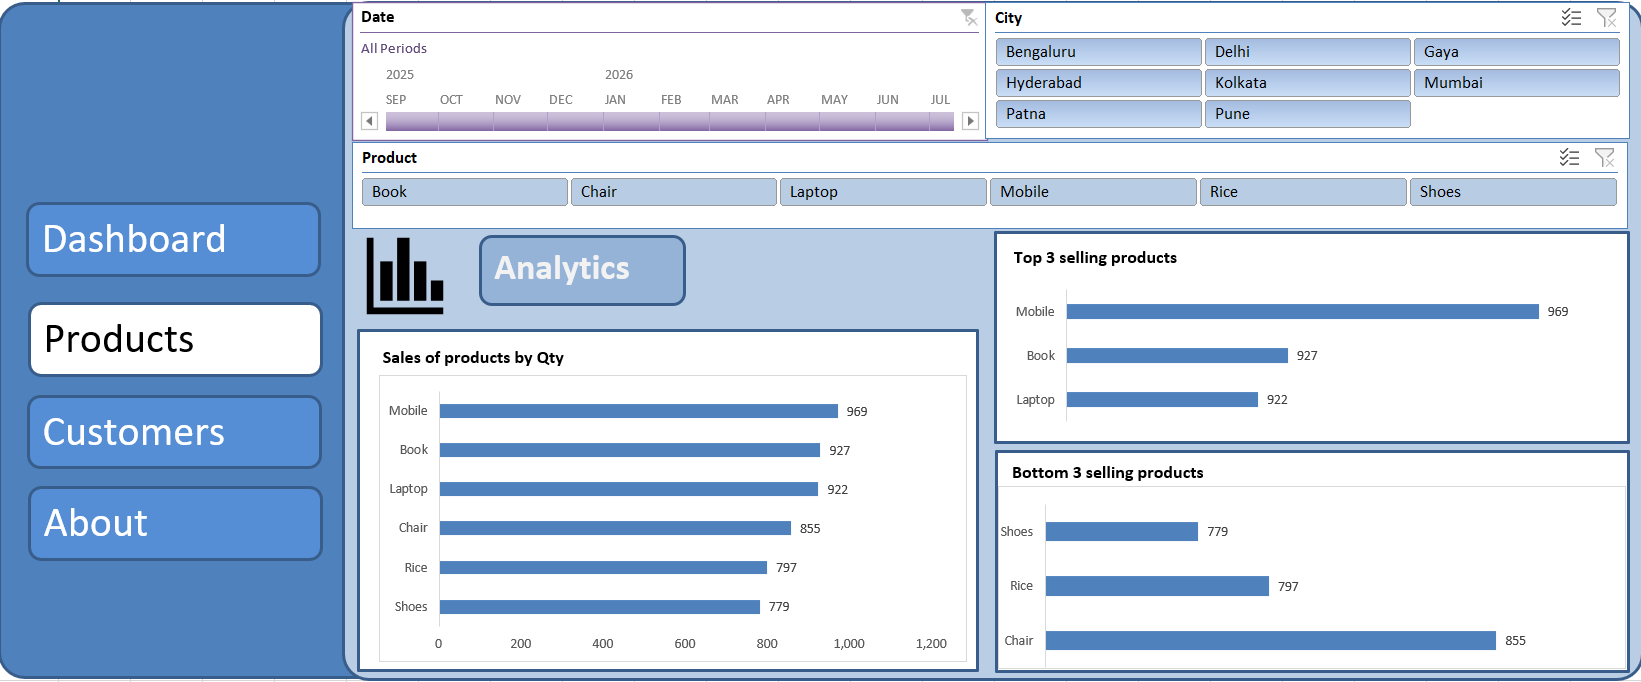

This screenshot's page, from the dashboard's own definition file:
{"tool":"powerbi","page":{"name":"PRODUCT ANALYSIS","canvas":[1280,720],"ordinal":1},"visuals":[{"type":"textbox","box":[0,0,1279.4,69.7],"z":0},{"type":"shape","box":[0,68.1,248,651.7],"z":1000},{"type":"textbox","box":[0,132.3,248,50.6],"z":2000},{"type":"textbox","box":[0,232.7,247.6,43.3],"z":3000},{"type":"textbox","box":[0,316.9,247.6,43.3],"z":4000},{"type":"textbox","box":[0,404.8,247.6,40.9],"z":5000},{"type":"cardVisual","fields":{"Data":["sales_data_cleaned.Total Sales"]},"box":[248,69.1,205.2,113.8],"z":6000},{"type":"cardVisual","fields":{"Data":["sales_data_cleaned.Total Quantity"]},"box":[449.4,69.1,205.2,113.8],"z":7000},{"type":"cardVisual","fields":{"Data":["sales_data_cleaned.Average Selling Price"]},"box":[1081.6,71,197.4,112.8],"z":8000},{"type":"cardVisual","fields":{"Data":["sales_data_cleaned.Best Category"]},"box":[856.9,71,224.7,111.9],"z":9000},{"type":"clusteredColumnChart","fields":{"Category":["sales_data_cleaned.Category"],"Y":["sales_data_cleaned.Total Sales"]},"box":[655.6,183.8,331.7,268.4],"z":10000},{"type":"barChart","fields":{"Category":["sales_data_cleaned.Product"],"Y":["Sum(sales_data_cleaned.Quantity)"]},"box":[248,452.3,408.5,267.5],"z":11000},{"type":"listSlicer","fields":{"Values":["sales_data_cleaned.Month"]},"box":[987.2,183.8,292.8,177],"z":12000},{"type":"listSlicer","fields":{"Values":["sales_data_cleaned.Category"]},"box":[987.2,367.7,290.8,185.8],"z":13000},{"type":"barChart","fields":{"Category":["sales_data_cleaned.Product"],"Y":["Sum(sales_data_cleaned.Total_Sales)"]},"box":[248,183.8,408.5,268.4],"z":14000},{"type":"cardVisual","fields":{"Data":["sales_data_cleaned.Best Selling Product"]},"box":[654.6,72,202.3,110.9],"z":15000},{"type":"clusteredColumnChart","fields":{"Category":["sales_data_cleaned.Category"],"Y":["Sum(sales_data_cleaned.Avg_Selling_Price)"]},"box":[656.5,451.3,331.7,268.4],"z":16000},{"type":"listSlicer","fields":{"Values":["sales_data_cleaned.Product"]},"box":[987.2,553.4,291.8,166.3],"z":17000},{"type":"shape","box":[0,318.1,248,43.8],"z":17001},{"type":"shape","box":[0,135.2,248,43.8],"z":17002},{"type":"shape","box":[0,407.5,248,43.8],"z":17003}]}

Visuals, with their boxes on the page's 1280x720 design canvas (x1, y1, x2, y2). These are canvas units, not pixel positions in the 1641x682 screenshot, which may show the page scaled, cropped or inside an application window:
textbox: region(0, 0, 1279, 70)
shape: region(0, 68, 248, 720)
textbox: region(0, 132, 248, 183)
textbox: region(0, 233, 248, 276)
textbox: region(0, 317, 248, 360)
textbox: region(0, 405, 248, 446)
cardVisual - sales_data_cleaned.Total Sales: region(248, 69, 453, 183)
cardVisual - sales_data_cleaned.Total Quantity: region(449, 69, 655, 183)
cardVisual - sales_data_cleaned.Average Selling Price: region(1082, 71, 1279, 184)
cardVisual - sales_data_cleaned.Best Category: region(857, 71, 1082, 183)
clusteredColumnChart - sales_data_cleaned.Category x sales_data_cleaned.Total Sales: region(656, 184, 987, 452)
barChart - sales_data_cleaned.Product x Sum(sales_data_cleaned.Quantity): region(248, 452, 656, 720)
listSlicer - sales_data_cleaned.Month: region(987, 184, 1280, 361)
listSlicer - sales_data_cleaned.Category: region(987, 368, 1278, 554)
barChart - sales_data_cleaned.Product x Sum(sales_data_cleaned.Total_Sales): region(248, 184, 656, 452)
cardVisual - sales_data_cleaned.Best Selling Product: region(655, 72, 857, 183)
clusteredColumnChart - sales_data_cleaned.Category x Sum(sales_data_cleaned.Avg_Selling_Price): region(656, 451, 988, 720)
listSlicer - sales_data_cleaned.Product: region(987, 553, 1279, 720)
shape: region(0, 318, 248, 362)
shape: region(0, 135, 248, 179)
shape: region(0, 408, 248, 451)
